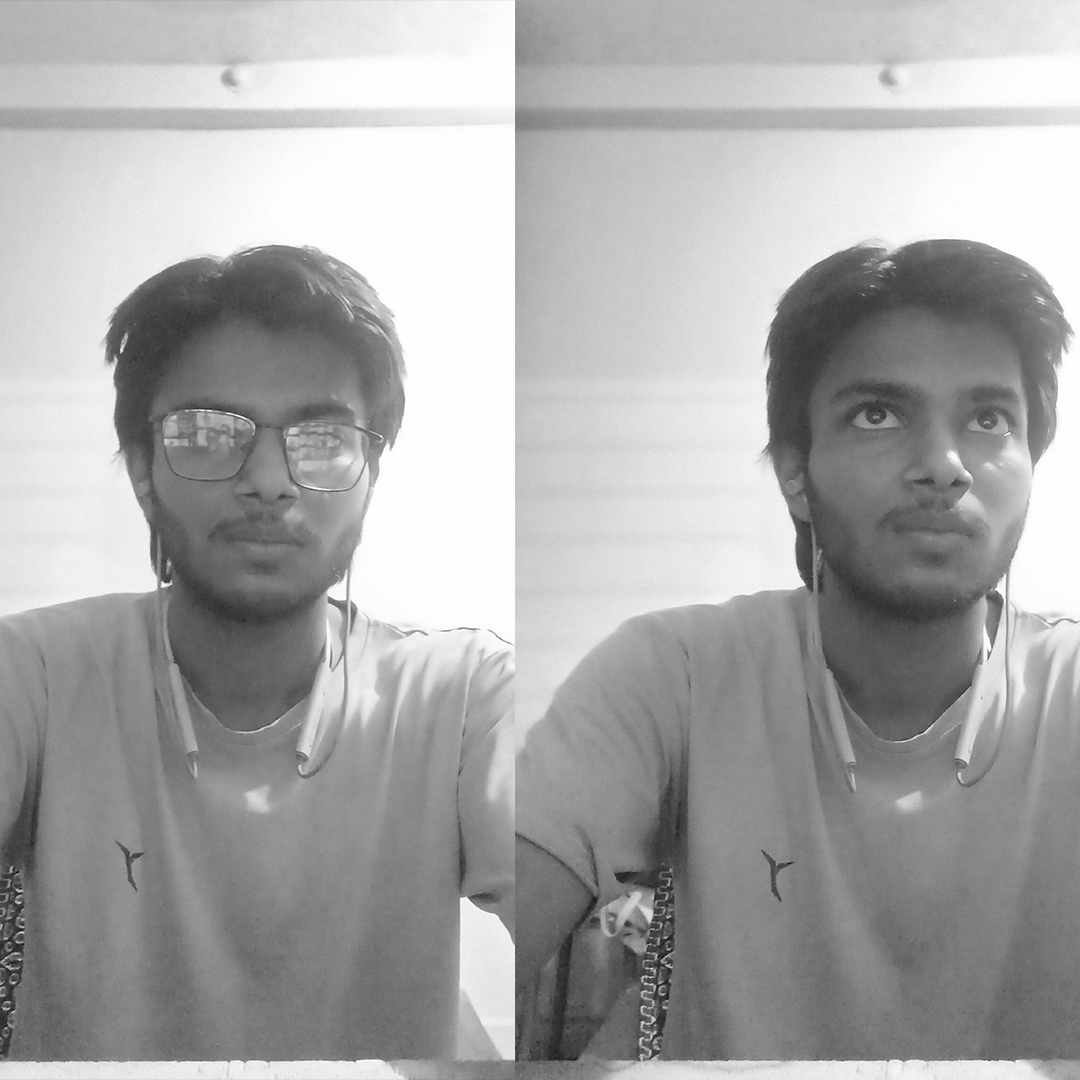Focused: (731, 179, 1076, 675), (89, 223, 432, 711)
